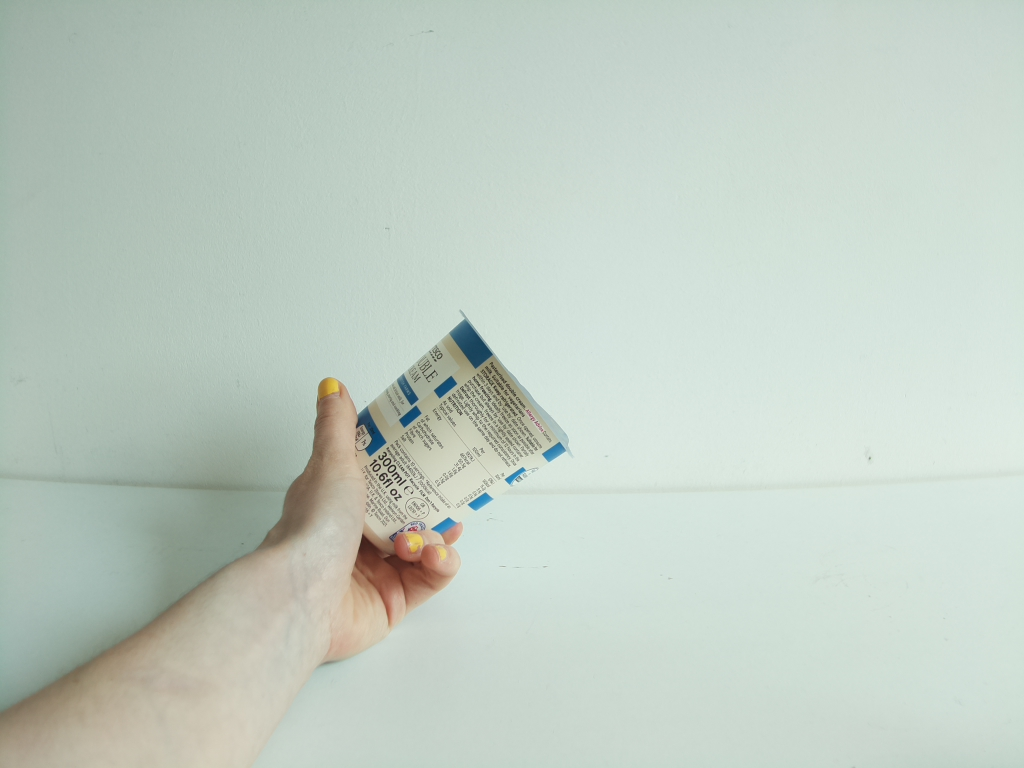cream: (352, 317, 577, 561)
